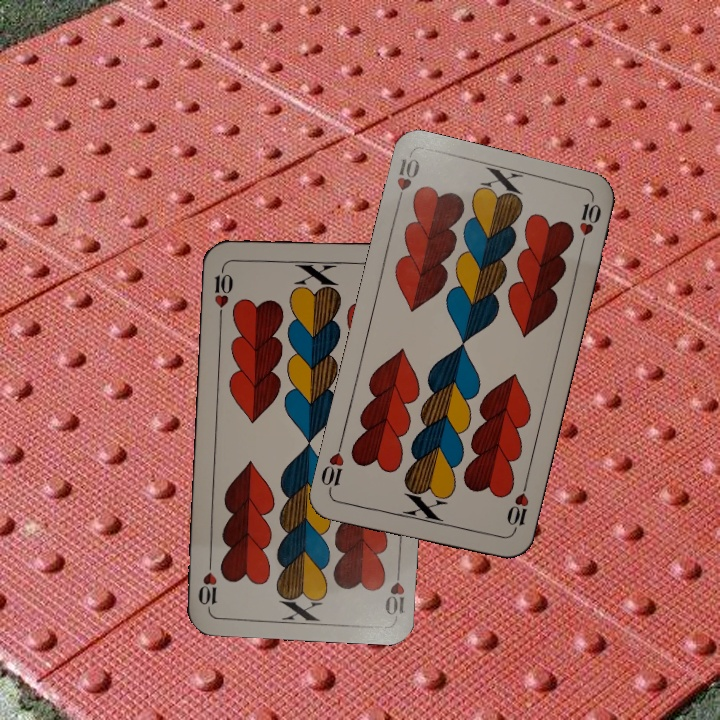H10: (392, 152, 423, 211), (502, 479, 532, 537), (381, 560, 408, 619), (210, 261, 236, 320)
